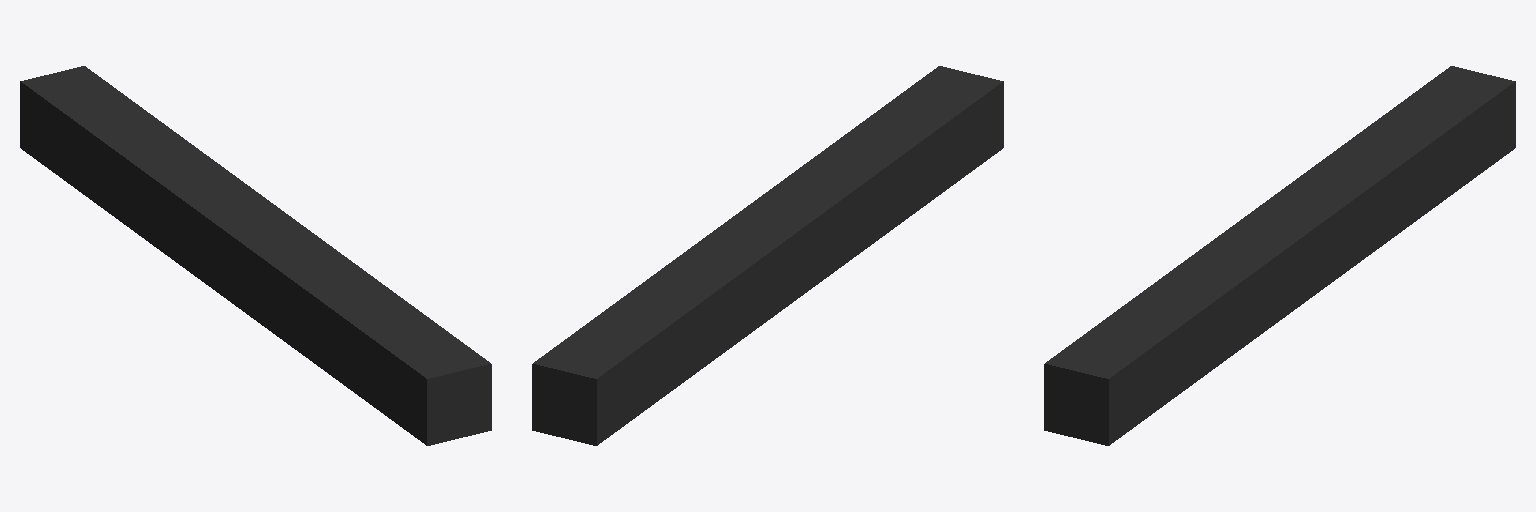
The robot description file, URDF, robot "wall":
<robot name="wall">
  <link name="baseLink">
   
    <inertial>
      <origin rpy="0 0 0" xyz="0 0 0" />
       <mass value="1000" />
       <inertia ixx="0" ixy="0" ixz="0" iyy="0" iyz="0" izz="0" />
    </inertial>
    <visual>
      <origin rpy="0 0 0" xyz="0 0 0" />
      <geometry>
			  <box size="1 11 1" />
      </geometry>
       <material name="grey">
        <color rgba="0.24 0.24 0.24 1" />
      </material>
    </visual>
    <collision>
      <origin rpy="0 0 0" xyz="0 0 0" />
      <geometry>
	 	      <box size="1 11 1" />
      </geometry>
    </collision>
  </link>
</robot>

--- What the picture shows (computed from the rendered views, not written in the file) ---
3 views of the same robot in one strip: view 1: azimuth 30°, elevation 25°; view 2: azimuth 150°, elevation 25°; view 3: azimuth 330°, elevation 25° (orthographic).
Model wall with 1 links and 0 joints (none), rooted at baseLink, posed all joints at 0.
Links seen in each view (by area): view 1: baseLink; view 2: baseLink; view 3: baseLink.
Boxes of the visible links, x1=… form: baseLink: x1=20, y1=66, x2=491, y2=445; baseLink: x1=532, y1=66, x2=1003, y2=445; baseLink: x1=1044, y1=66, x2=1515, y2=445.
Bounding box of the posed robot: 1 × 11 × 1 m (x, y, z).
Geometry: primitives only (box / cylinder / sphere), no mesh files.
